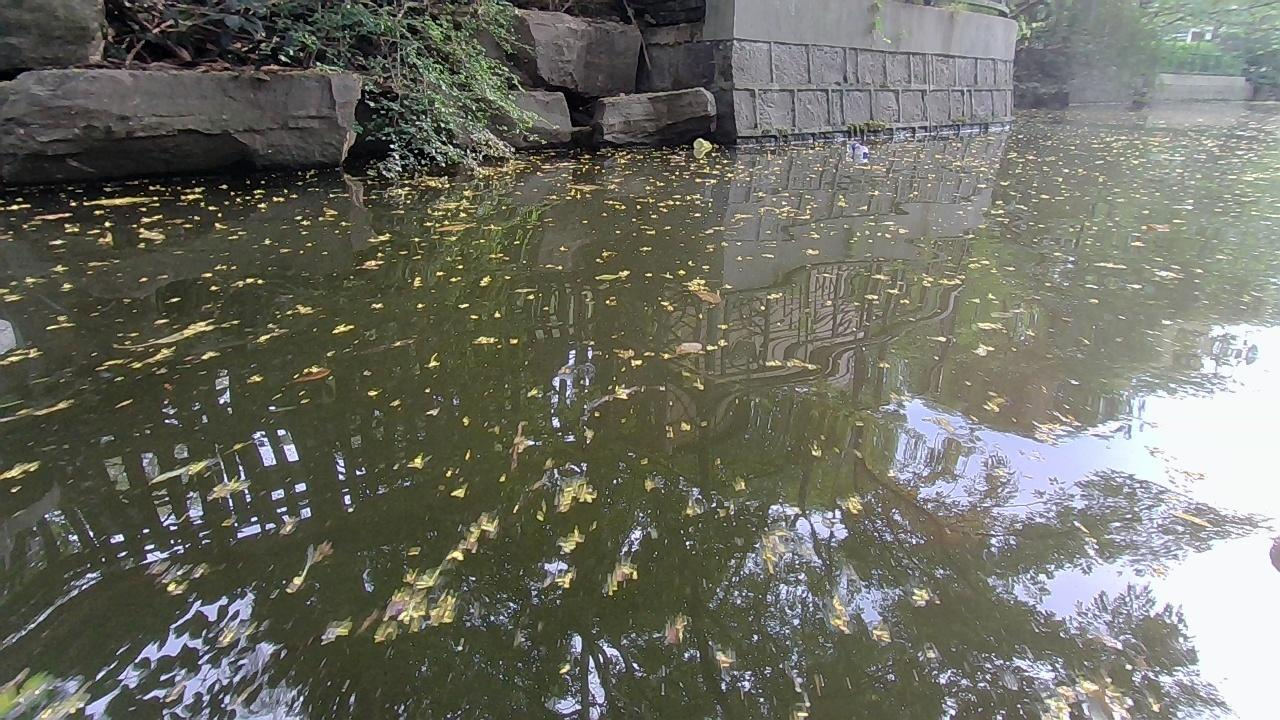bottle: (842, 137, 873, 160)
